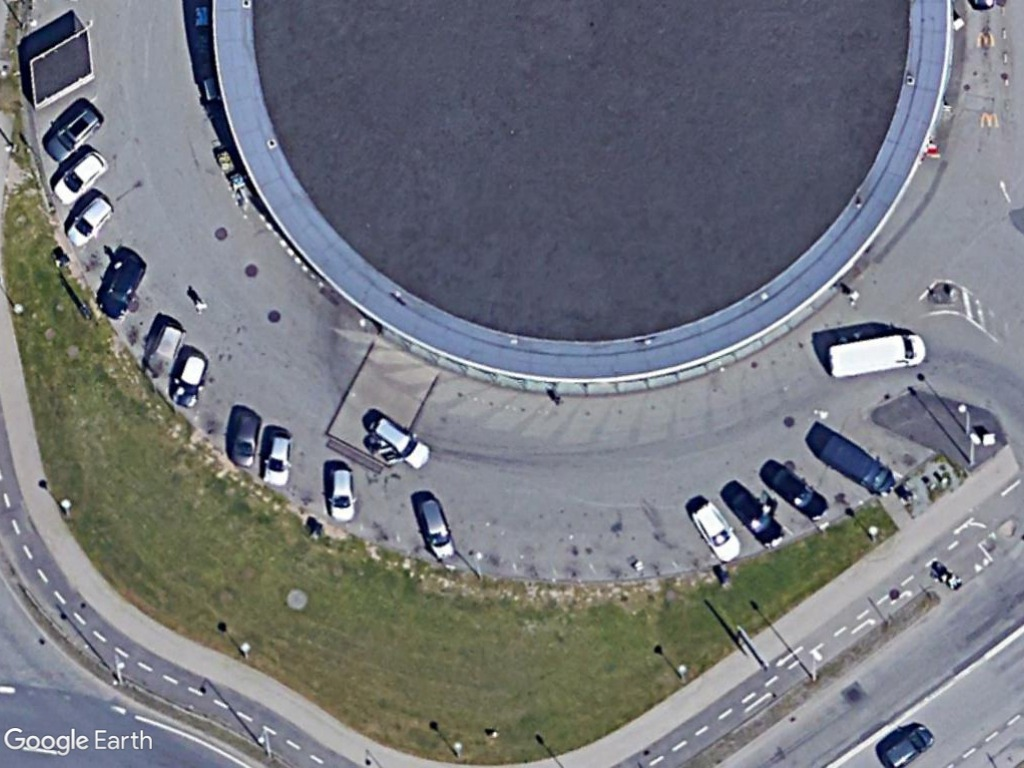car: (761, 458, 836, 525), (38, 97, 104, 166), (685, 498, 750, 567), (364, 412, 435, 475), (725, 484, 791, 550), (47, 143, 111, 210), (60, 186, 117, 252), (413, 492, 460, 570), (94, 250, 143, 323), (874, 719, 940, 768), (167, 343, 209, 412), (225, 405, 266, 474), (256, 425, 298, 492), (326, 461, 362, 524)
van: (821, 326, 929, 382), (818, 431, 900, 501)
